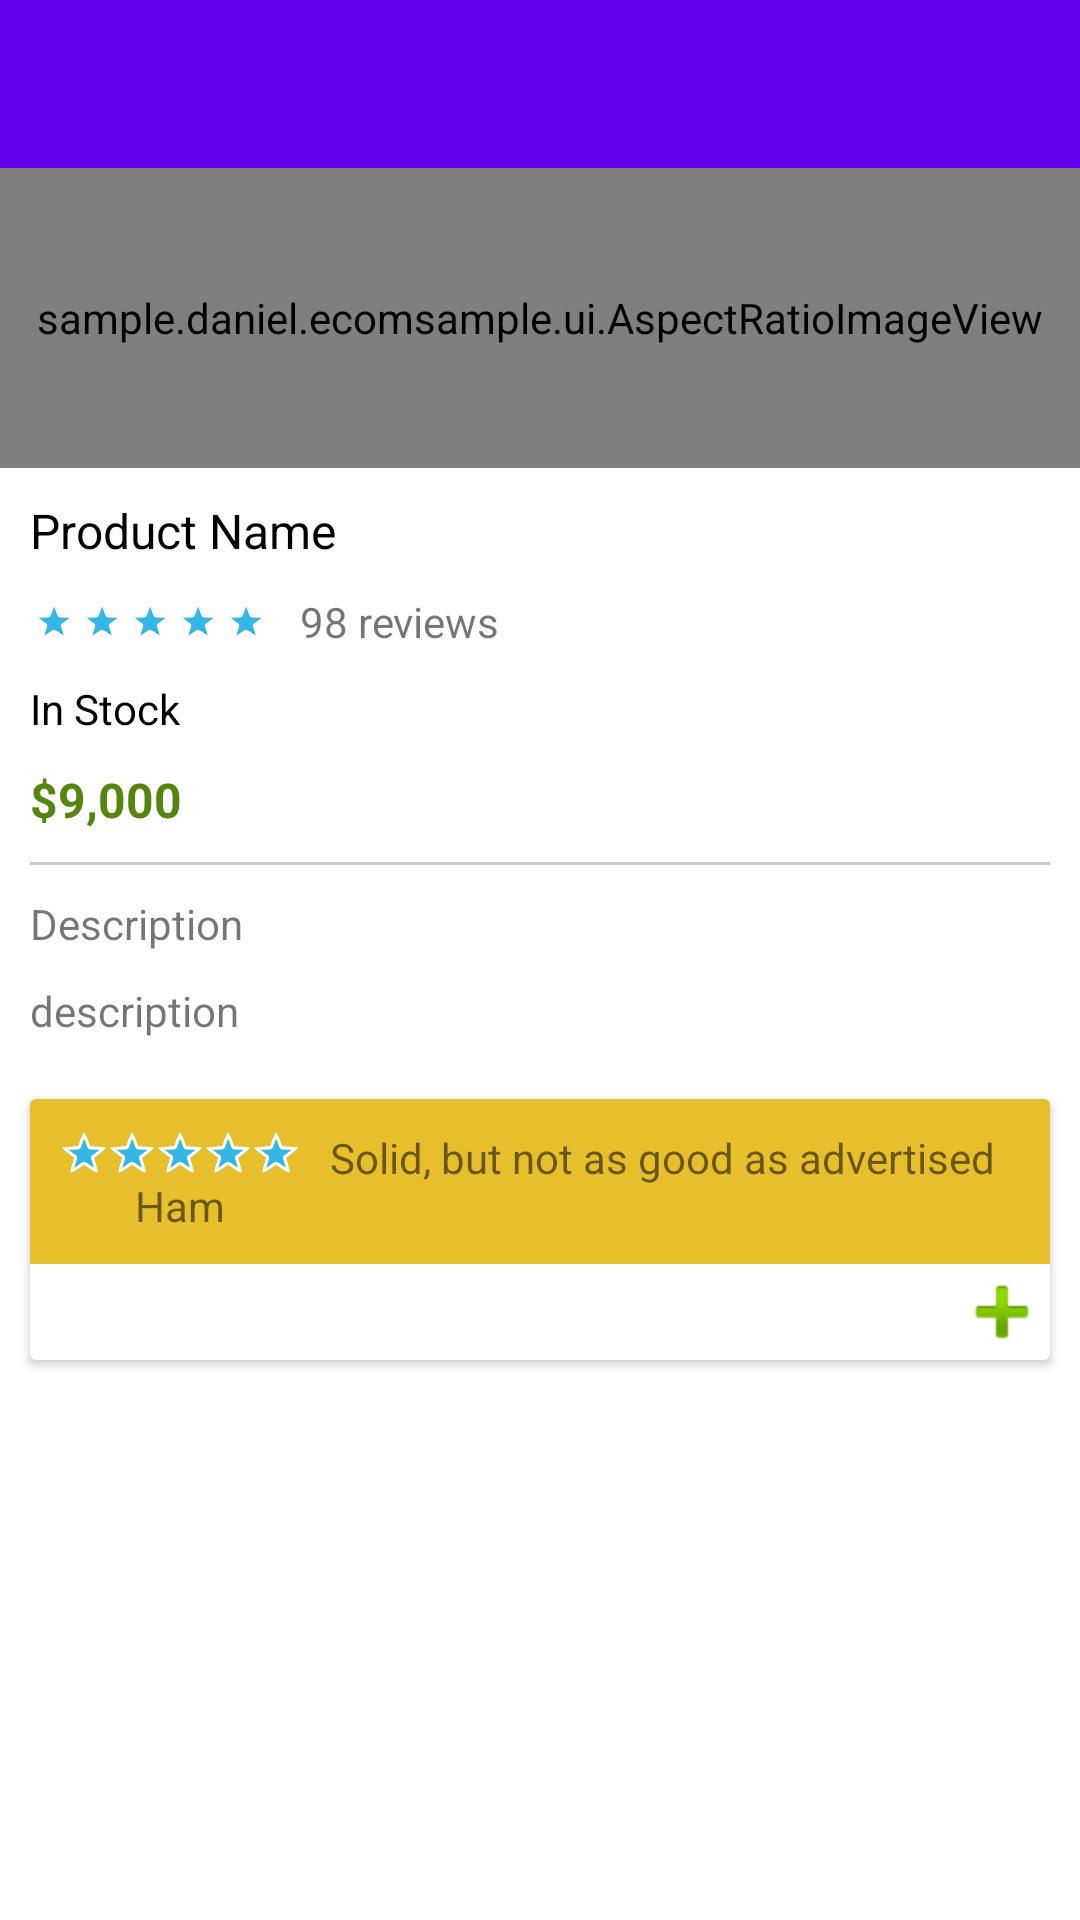

Icons on this 1080*1920 Android screen, each with the point to tap as [x,y]:
add: [1002,1312]
